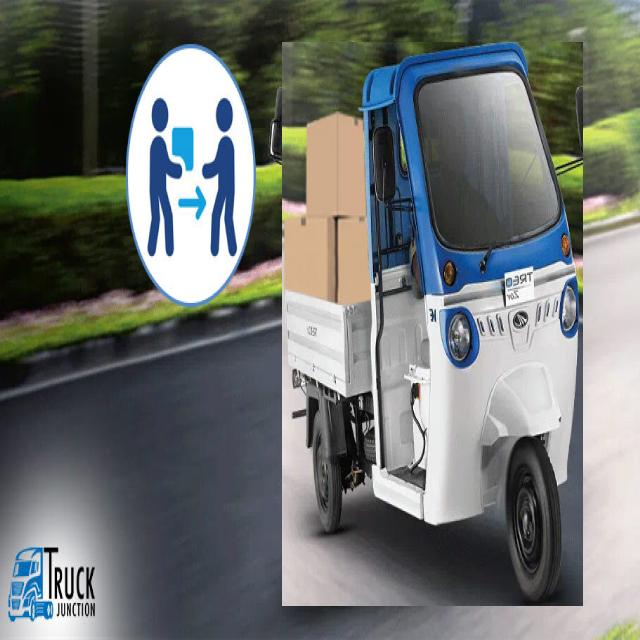autorickshaw: (282, 43, 583, 606)
